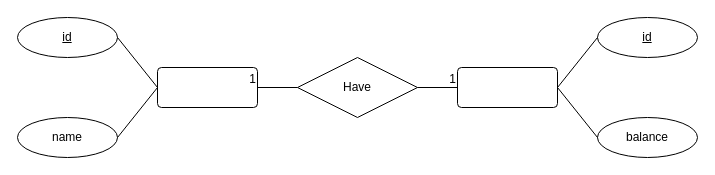
This 715x175 diagram has some shape labels left out. The centre of each missing label's shape, as x and y in pixels:
"Bank_Account" belongs at (x=507, y=87).
"Client" belongs at (x=207, y=87).
